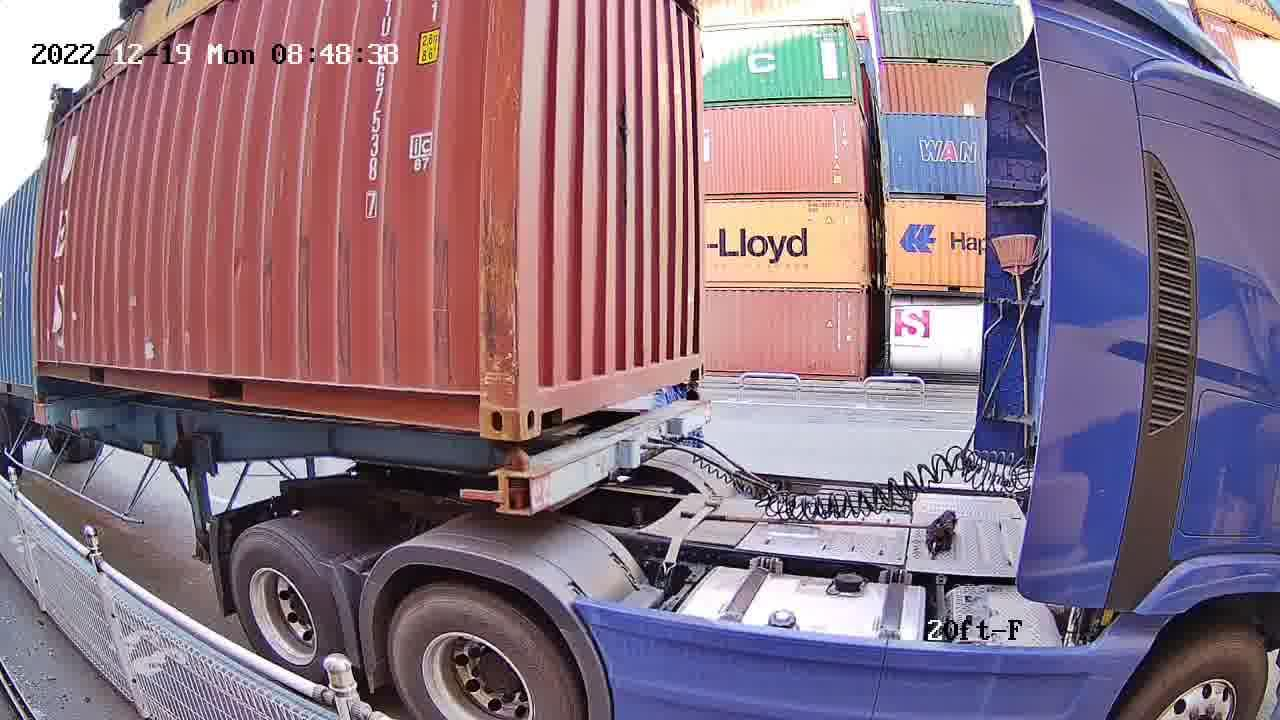Chassis: (490, 400, 711, 516)
Cone: (497, 449, 528, 515)
Hole_L: (517, 367, 566, 439)
Hole_R: (444, 371, 515, 441), (680, 332, 706, 384)
Tire: (388, 586, 575, 719), (231, 528, 343, 690)
